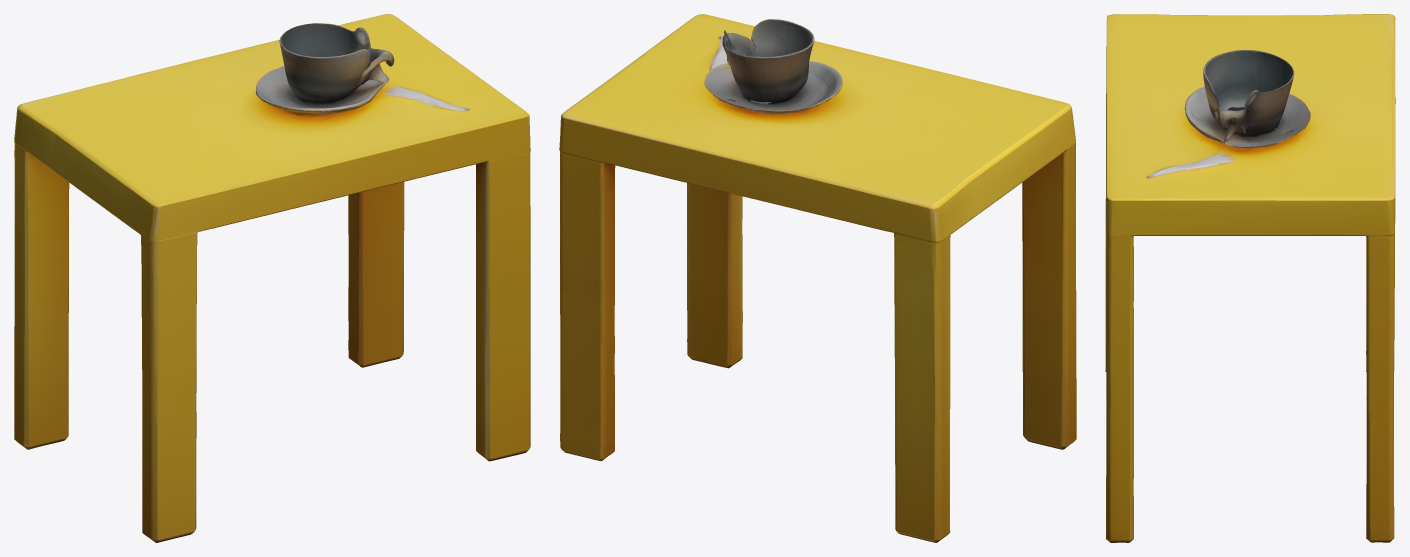
The model's file is source.glb.
3 views of the same model, side by side, from view 1: azimuth 30°, elevation 25°; view 2: azimuth 150°, elevation 25°; view 3: azimuth 270°, elevation 25° (orthographic). The views are drawn at different scales.
Visible parts, largest first — view 1: world; view 2: world; view 3: world.
Boxes of the visible parts, x1,y1,x2,y2 form: world: [14, 14, 530, 542]; world: [559, 14, 1076, 542]; world: [1105, 14, 1395, 542].
Bounding box in the file's own units: 1 × 0.9999 × 0.646.
1 material, 1 textured.
